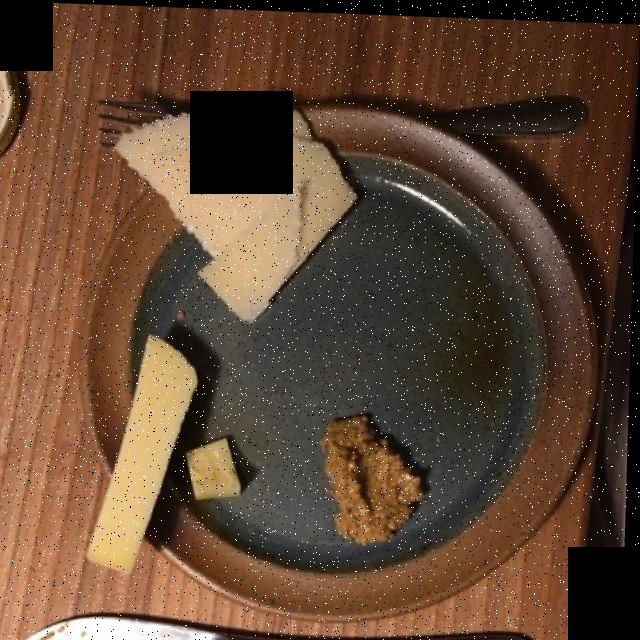hard-cheese: (90, 332, 240, 567)
mustard-dijon: (327, 415, 427, 540)
parmesan: (117, 95, 354, 317)
